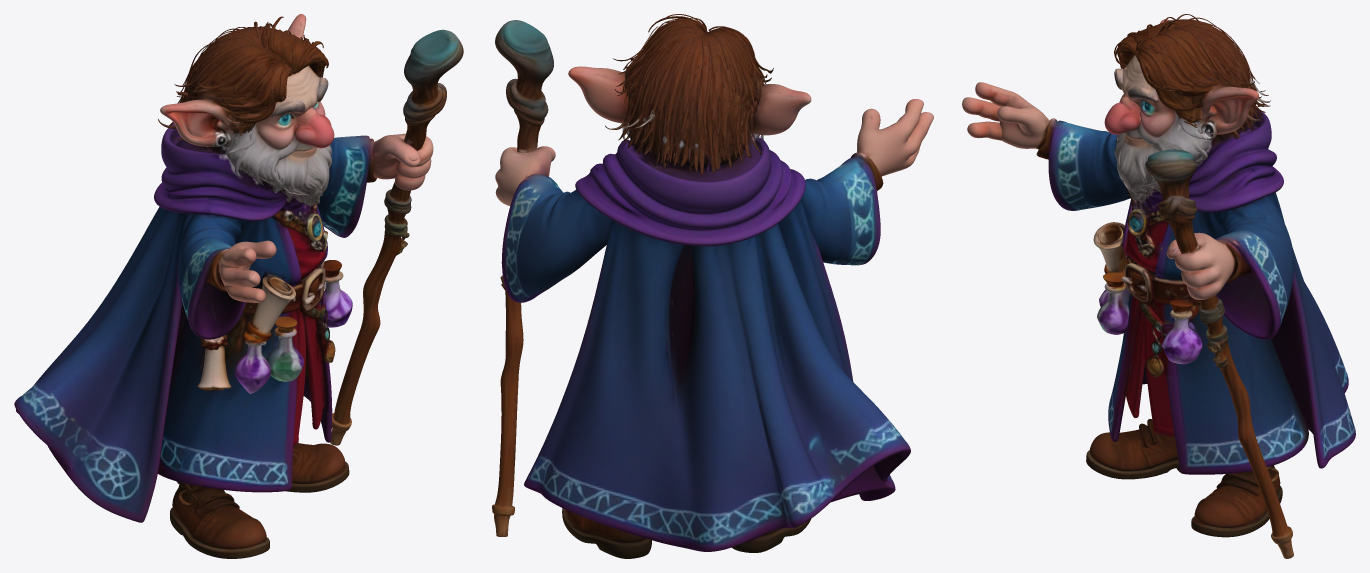
The model's file is gnome_mage_full_male_01.glb.
3 renders of one model, left to right at view 1: azimuth 30°, elevation 25°; view 2: azimuth 150°, elevation 25°; view 3: azimuth 270°, elevation 25°, orthographic. The views are drawn at different scales.
Visible parts, largest first — view 1: material; view 2: material; view 3: material.
Boxes of the visible parts, x1,y1,x2,y2 form: material: (14,14,463,558); material: (492,14,933,558); material: (962,14,1355,558).
Bounding box in the file's own units: 0.8324 × 0.9403 × 0.6999.
1 material, 1 textured.
